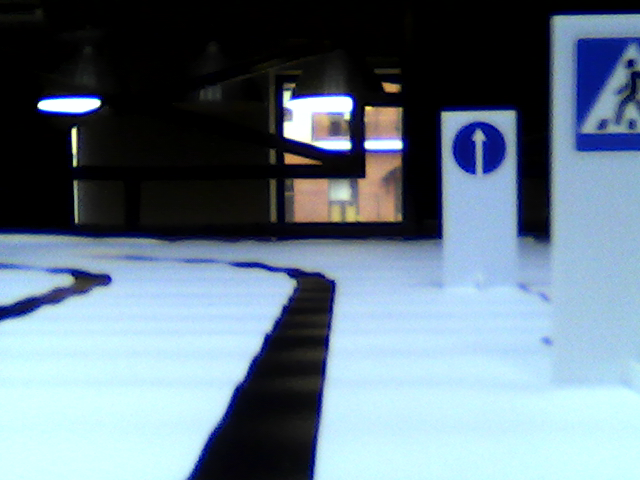forw: (452, 122, 505, 176)
pesh: (574, 34, 640, 160)
